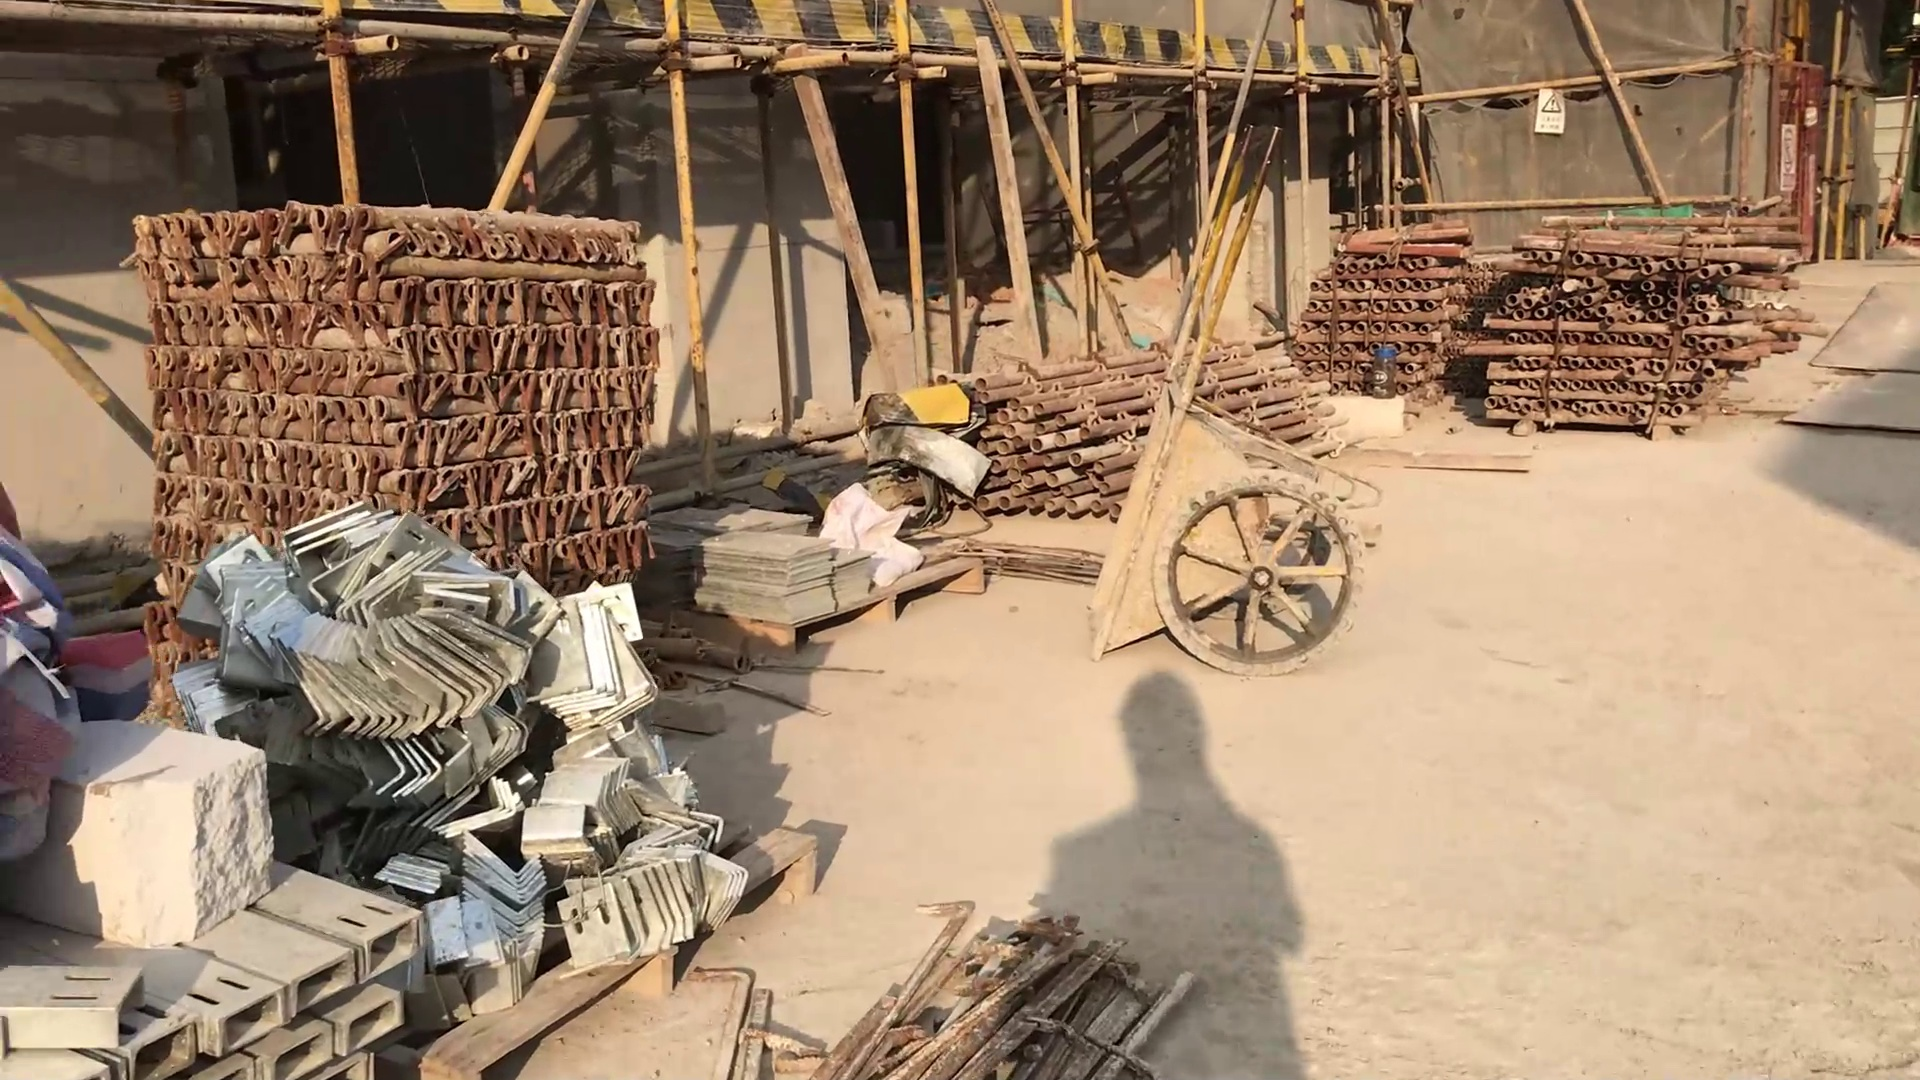handcart: (1083, 116, 1385, 676)
scaffold: (127, 199, 651, 589), (964, 344, 1349, 509), (1476, 216, 1805, 407), (1292, 229, 1495, 404)
slogan: (1534, 84, 1568, 137), (1779, 125, 1799, 195)
